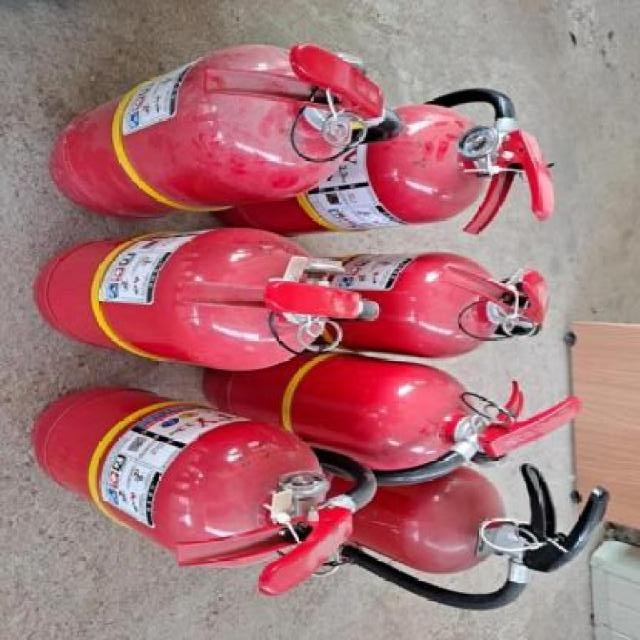fire extinguisher: (33, 385, 378, 597), (51, 43, 405, 222), (212, 88, 556, 237), (204, 350, 582, 485), (32, 227, 380, 371), (320, 464, 611, 611), (308, 252, 552, 360)
